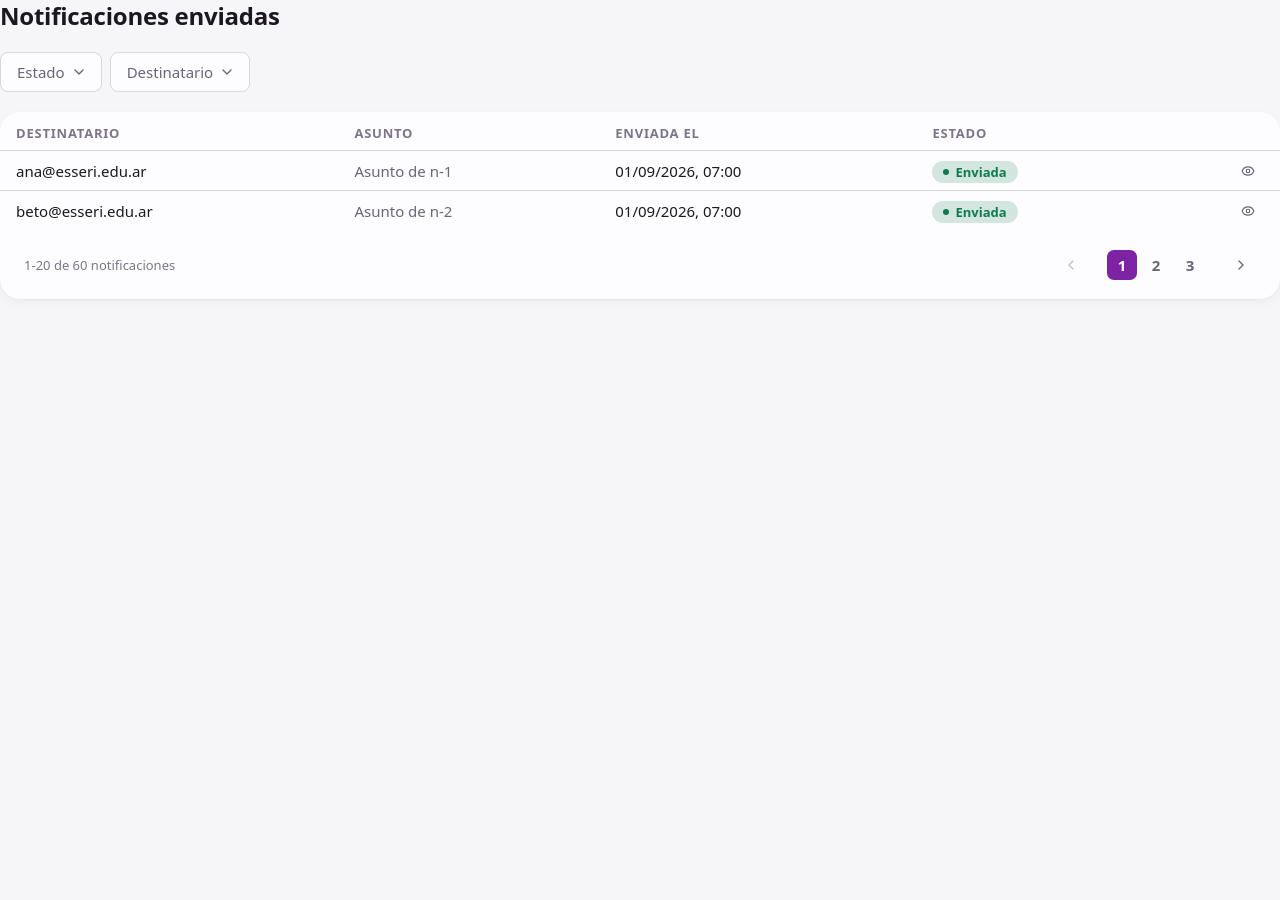
Test case: NotificacionesPage › abre el detalle y muestra el cuerpo
Click the button named "Ver detalle" at (1248,170), box [1232,154,1264,186]
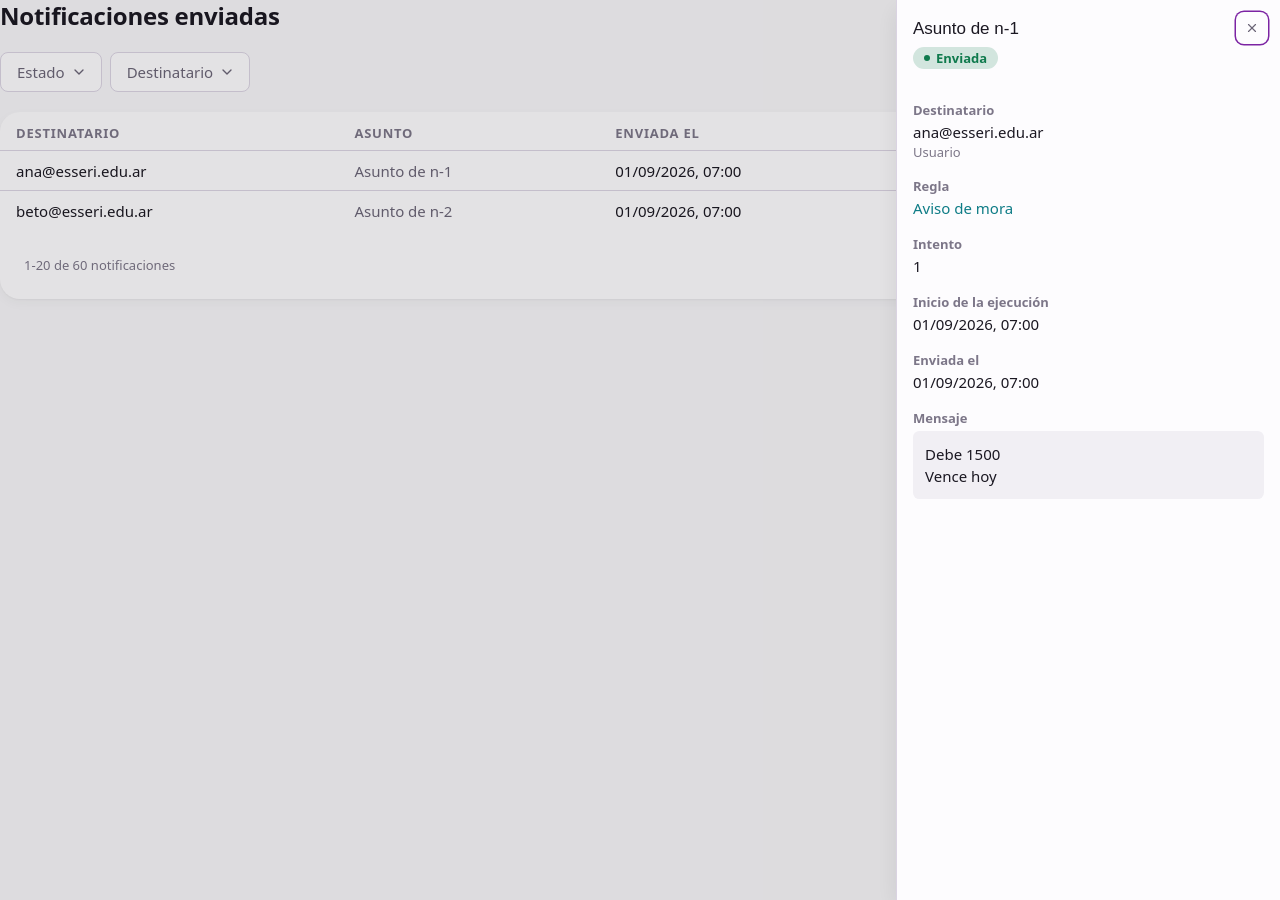
Result: the text "Debe 1500 Vence hoy" is shown at [913,431,1264,499]
Result: the dialog shows "Aviso de mora" at [913,198,1013,218]
